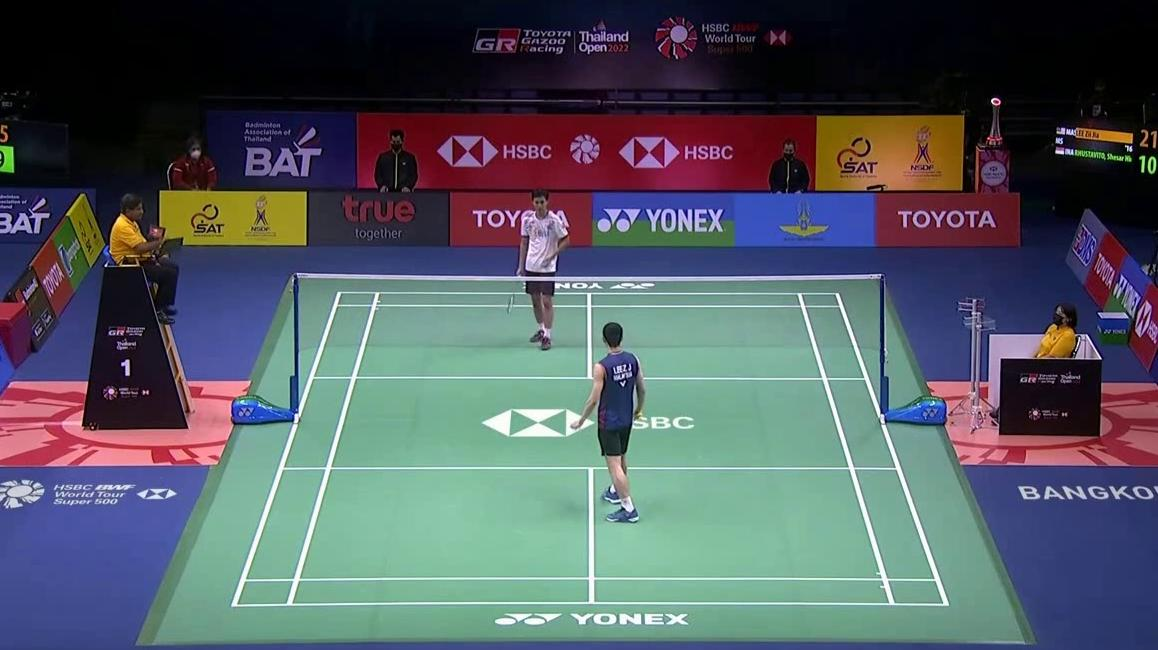racket: (507, 271, 521, 314)
shuttle: (574, 424, 583, 433)
